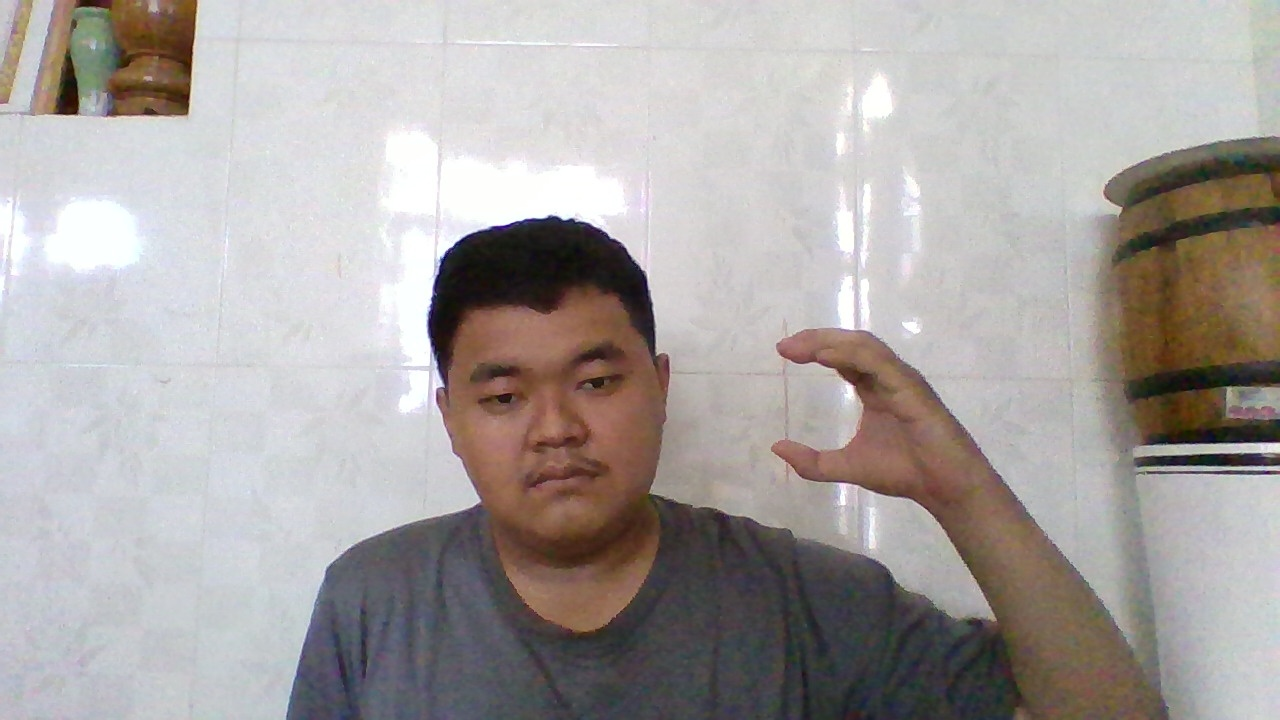C: (766, 321, 965, 510)
